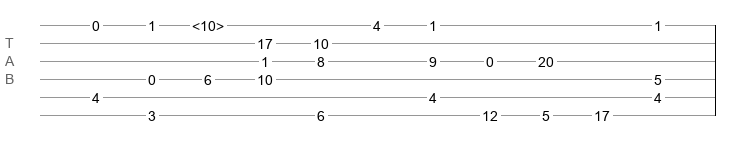0: (92, 18, 100, 28), (148, 72, 156, 82), (486, 54, 494, 64)
1: (148, 18, 156, 28), (261, 54, 269, 64), (429, 18, 437, 28), (654, 18, 662, 28)
10: (257, 72, 273, 82), (313, 36, 329, 46)
12: (482, 108, 498, 118)
17: (257, 36, 273, 46), (594, 108, 610, 118)
20: (538, 54, 554, 64)
3: (148, 108, 156, 118)
4: (92, 90, 100, 100), (373, 18, 381, 28), (429, 90, 437, 100), (654, 90, 662, 100)
5: (542, 108, 550, 118), (654, 72, 662, 82)
6: (204, 72, 212, 82), (317, 108, 325, 118)
8: (317, 54, 325, 64)
9: (429, 54, 437, 64)
harmonic: (192, 18, 224, 28)
